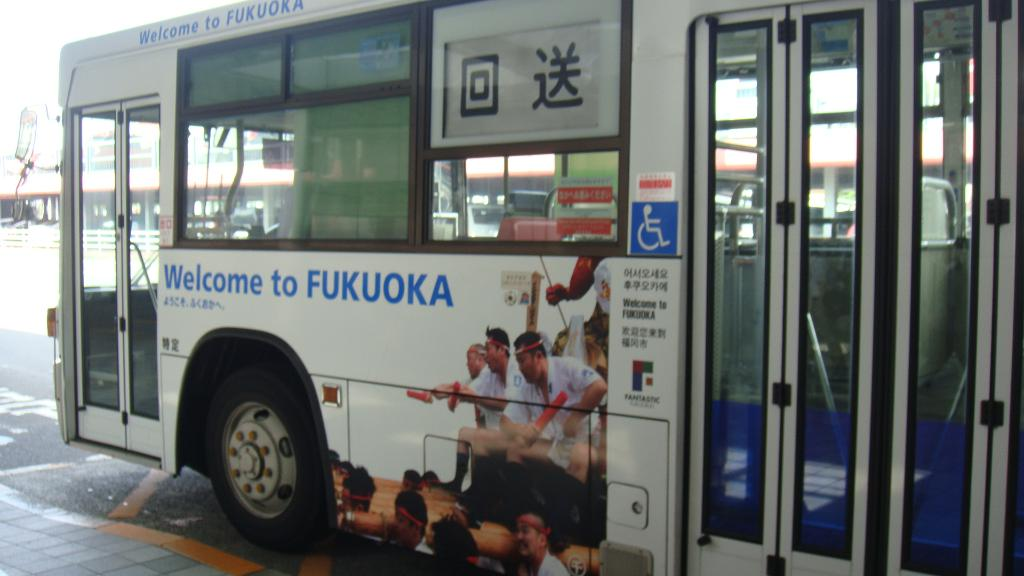Bus: (8, 0, 1020, 575)
